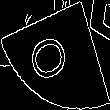O_E: (30, 25, 80, 85)
